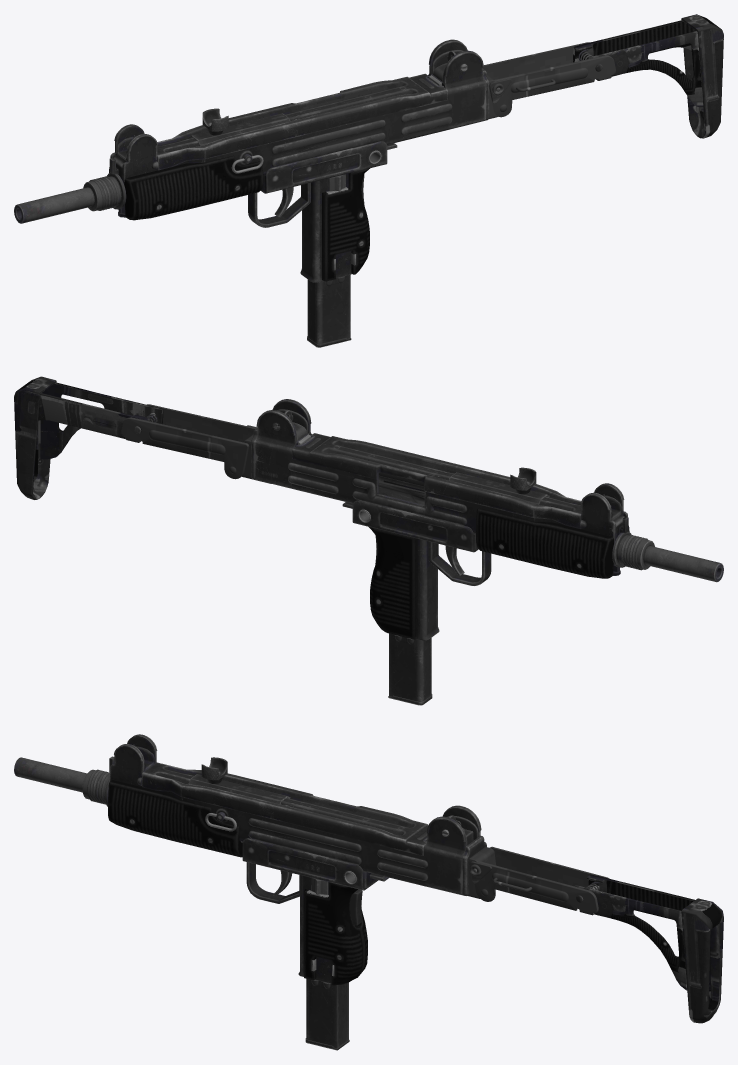
Rendered from weapon_uzi.glb.
3 renders of one model, top to bottom at view 1: azimuth 30°, elevation 25°; view 2: azimuth 150°, elevation 25°; view 3: azimuth 330°, elevation 25°, orthographic.
Parts seen in each view (by area): view 1: main_frame_uzi, stock_uzi, grip_uzi, handguard_uzi, magazine_uzi, barrel_uzi; view 2: main_frame_uzi, stock_uzi, grip_uzi, handguard_uzi, magazine_uzi, barrel_uzi; view 3: main_frame_uzi, stock_uzi, grip_uzi, handguard_uzi, magazine_uzi, barrel_uzi.
Part boxes in pixels (left/top/right/bottom): main_frame_uzi: left=107, top=39, right=489, bottom=217; stock_uzi: left=483, top=14, right=723, bottom=138; grip_uzi: left=248, top=141, right=397, bottom=282; handguard_uzi: left=109, top=155, right=263, bottom=220; magazine_uzi: left=307, top=274, right=351, bottom=347; barrel_uzi: left=14, top=176, right=121, bottom=223; main_frame_uzi: left=251, top=399, right=631, bottom=575; stock_uzi: left=14, top=376, right=271, bottom=499; grip_uzi: left=342, top=500, right=491, bottom=640; handguard_uzi: left=476, top=508, right=629, bottom=578; magazine_uzi: left=388, top=633, right=432, bottom=705; barrel_uzi: left=616, top=535, right=723, bottom=582; main_frame_uzi: left=104, top=734, right=486, bottom=895; stock_uzi: left=467, top=846, right=723, bottom=1023; grip_uzi: left=242, top=838, right=389, bottom=985; handguard_uzi: left=108, top=779, right=242, bottom=857; magazine_uzi: left=305, top=978, right=349, bottom=1050; barrel_uzi: left=14, top=757, right=109, bottom=804.
Size of the model in its own units: 54.31 by 19.43 by 3.67.
Materials: 3 (3 with a texture image).
